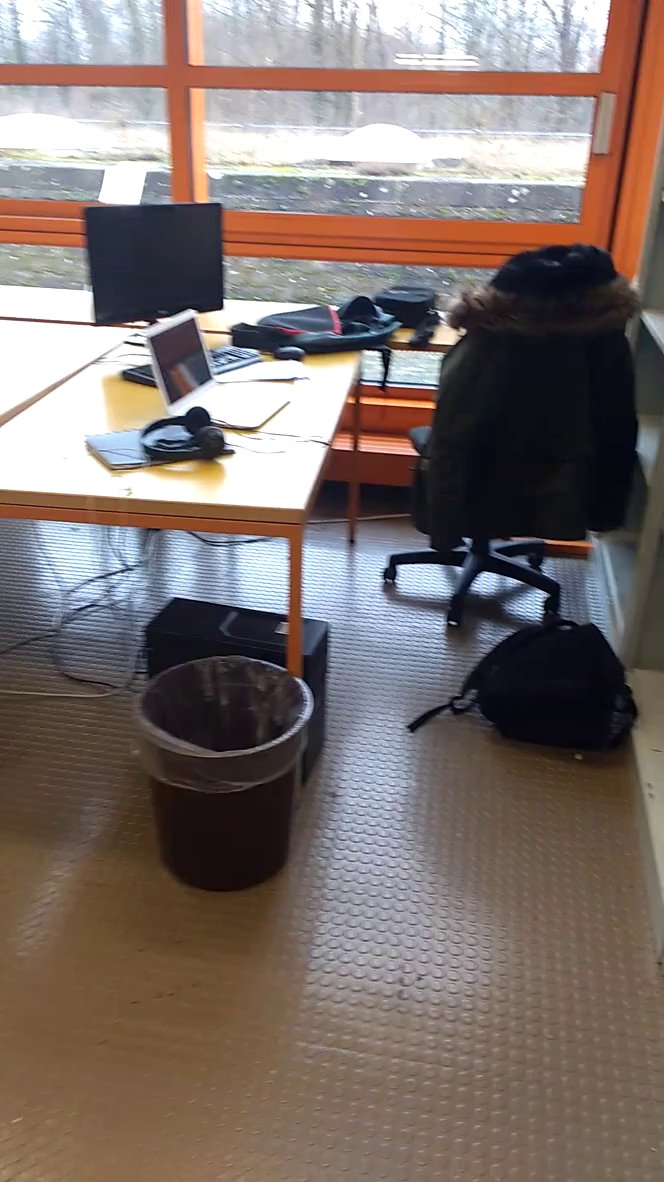bag: (402, 611, 642, 768)
bin: (120, 641, 331, 900)
laptop: (140, 297, 298, 439)
